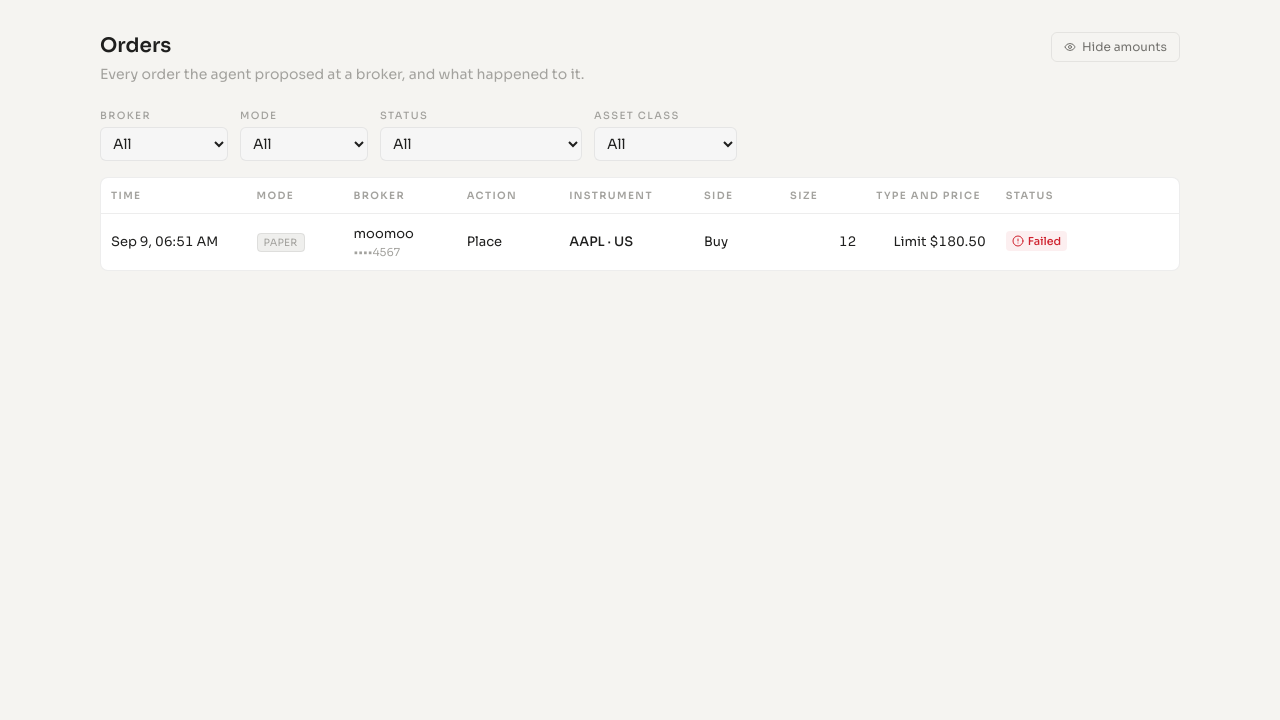
Test case: the orders page › opens the overlay when a row is clicked
The width and height of the screenshot is (1280, 720).
Click the row that starts with "Sep 9, 06:51 AM" at (640, 242), box x1=101 y1=214 x2=1179 y2=270
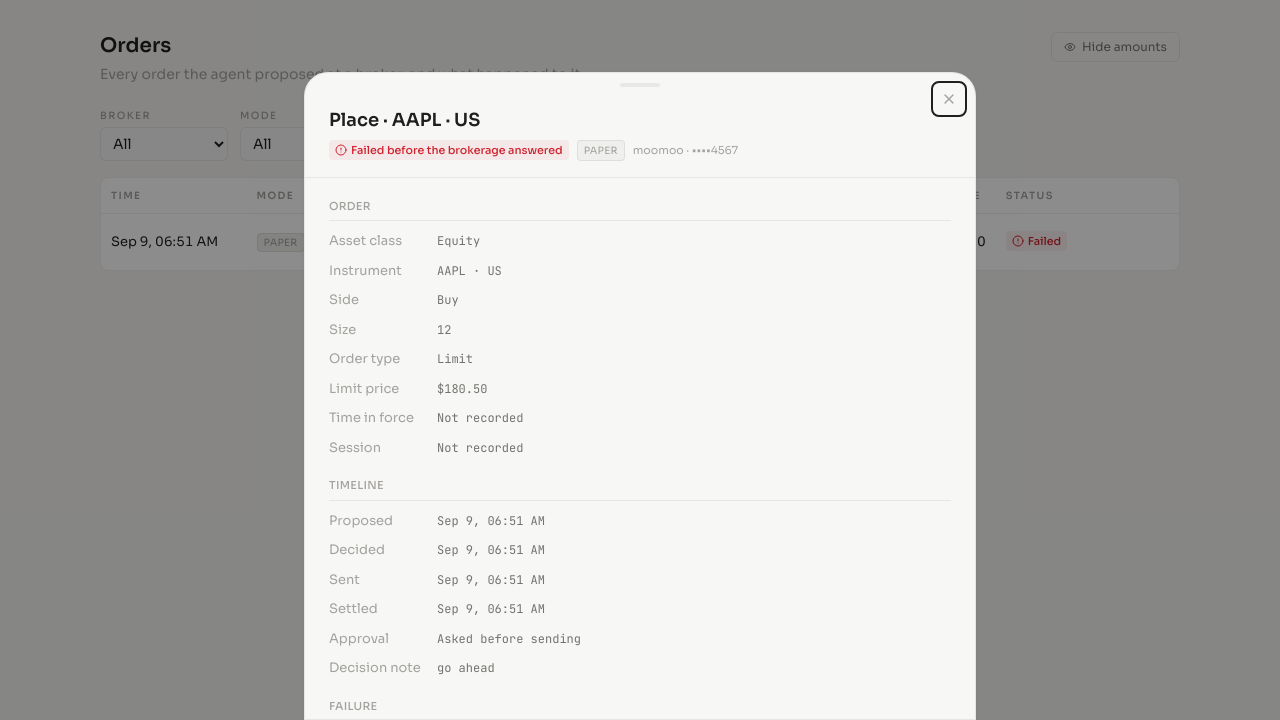
Check: the dialog is shown, box x1=304 y1=72 x2=976 y2=719
